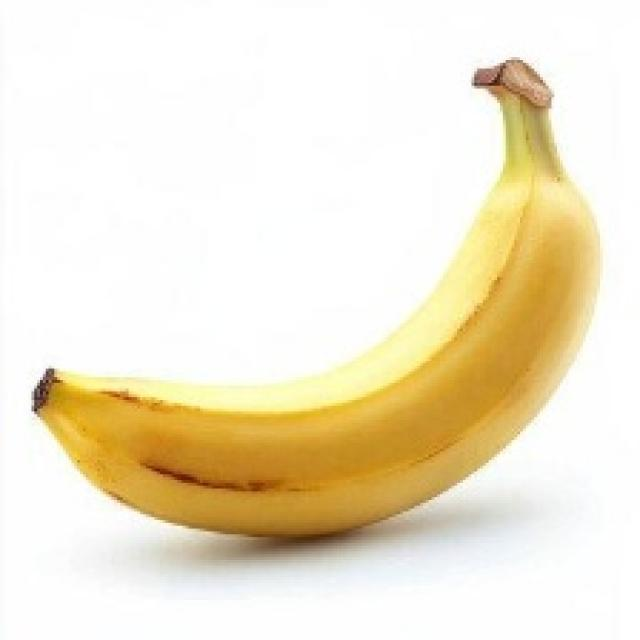Banana: (29, 54, 600, 537)
